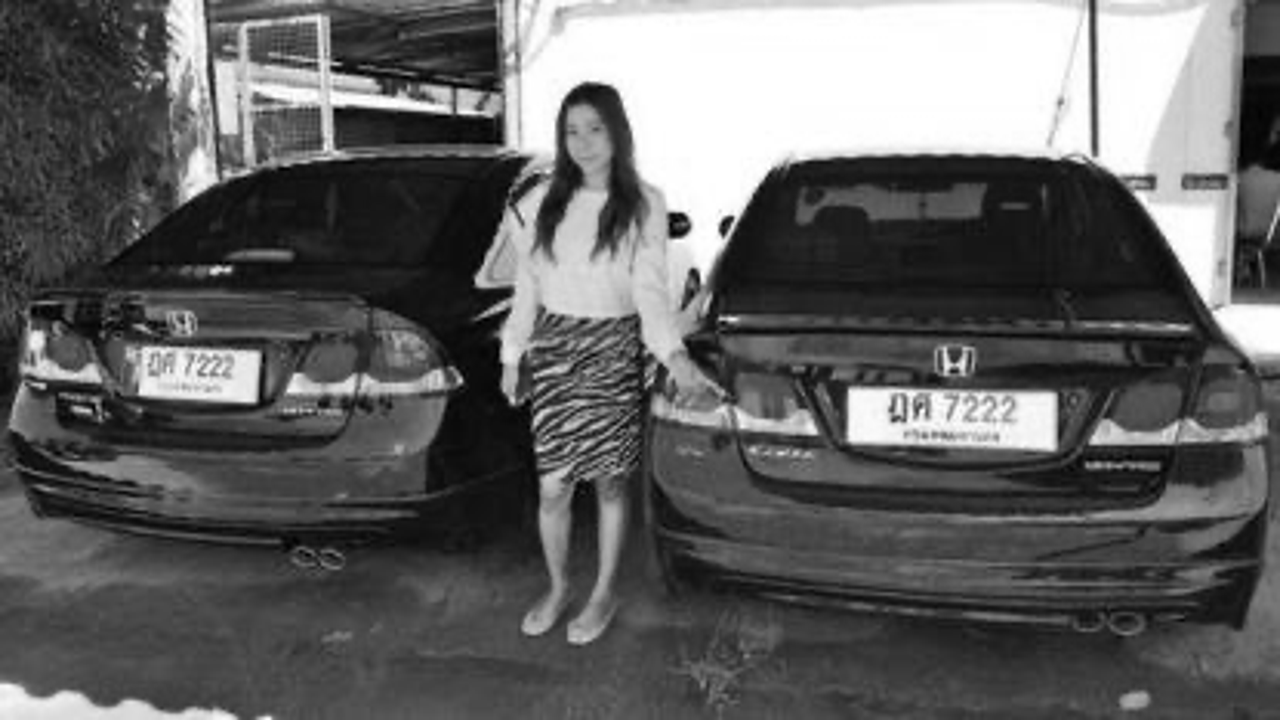license: (841, 377, 1066, 461), (115, 334, 275, 413)
